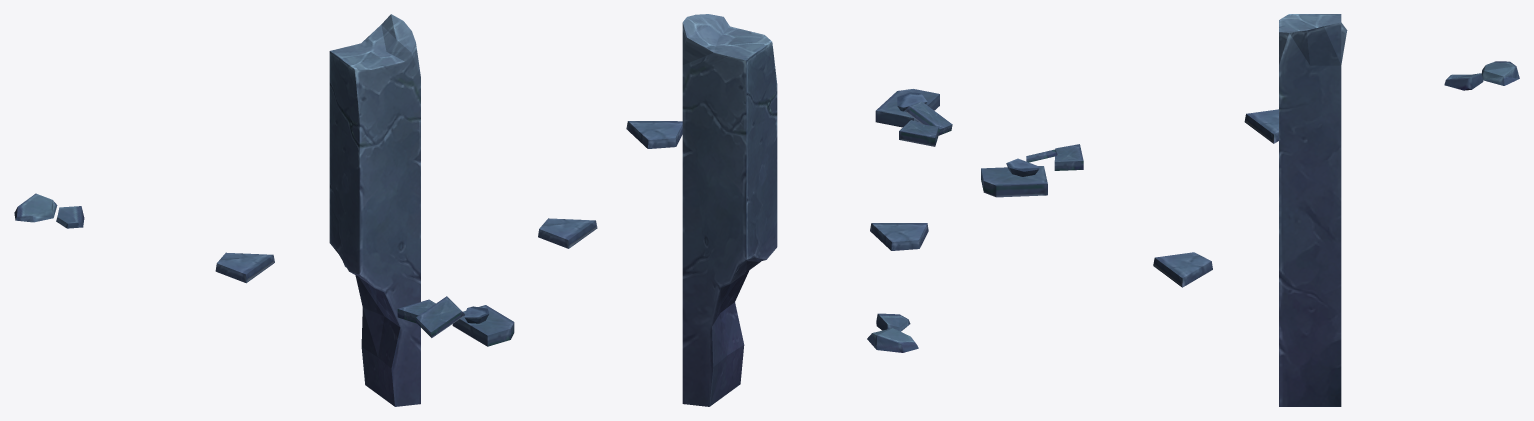
File: Area14_21.fbx
3 views of the same model, side by side, from view 1: azimuth 30°, elevation 25°; view 2: azimuth 150°, elevation 25°; view 3: azimuth 270°, elevation 25° (orthographic). The views are drawn at different scales.
Parts seen in each view (by area): view 1: Area14_21; view 2: Area14_21; view 3: Area14_21.
Boxes of the visible parts, bbox=[...] form: Area14_21: bbox=[14, 14, 597, 406]; Area14_21: bbox=[626, 14, 952, 406]; Area14_21: bbox=[981, 14, 1519, 406].
Size of the model in its own units: 1649 by 1342 by 1704.
1 material, 1 textured.
